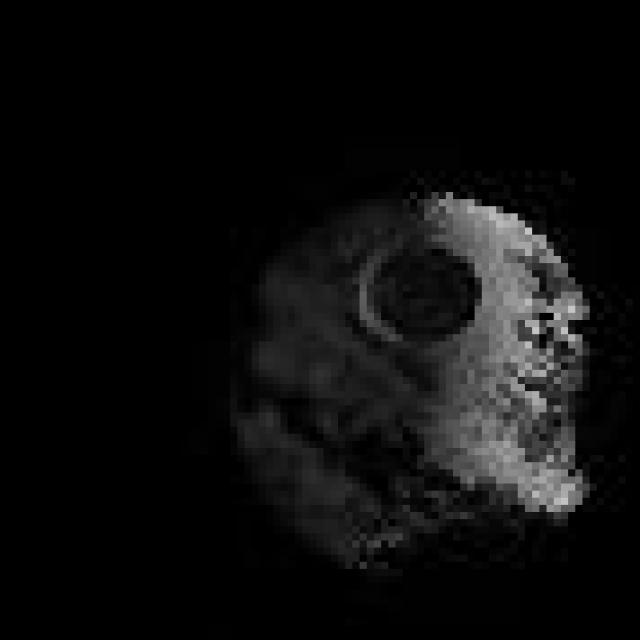Death Star: (216, 171, 611, 576)
